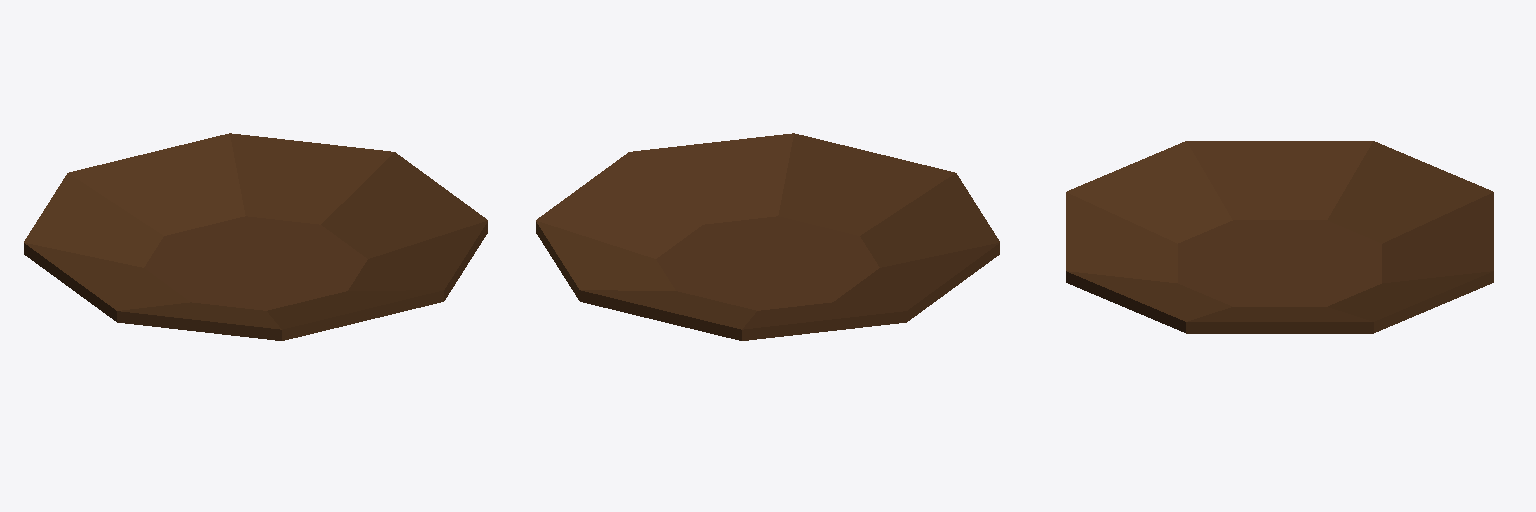
The model's file is cup3.obj.
The picture shows the model from 3 angles: view 1: azimuth 30°, elevation 25°; view 2: azimuth 150°, elevation 25°; view 3: azimuth 270°, elevation 25°; orthographic projection.
Parts seen in each view (by area): view 1: Cube.016; view 2: Cube.016; view 3: Cube.016.
Part boxes in pixels (x1,y1,x2,y2): Cube.016: (24, 133, 487, 340); Cube.016: (536, 133, 999, 340); Cube.016: (1066, 141, 1493, 333).
Size of the model in its own units: 1.1 by 0.1387 by 1.1.